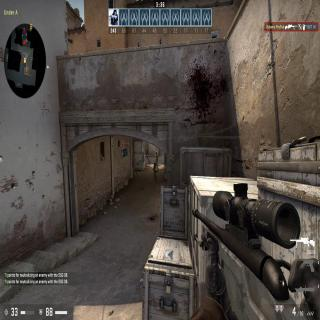CT-Body: (152, 161, 160, 185), (145, 148, 149, 161), (155, 150, 159, 161)
CT-Head: (155, 162, 157, 166), (153, 162, 155, 165), (146, 149, 148, 151), (156, 151, 157, 154)
